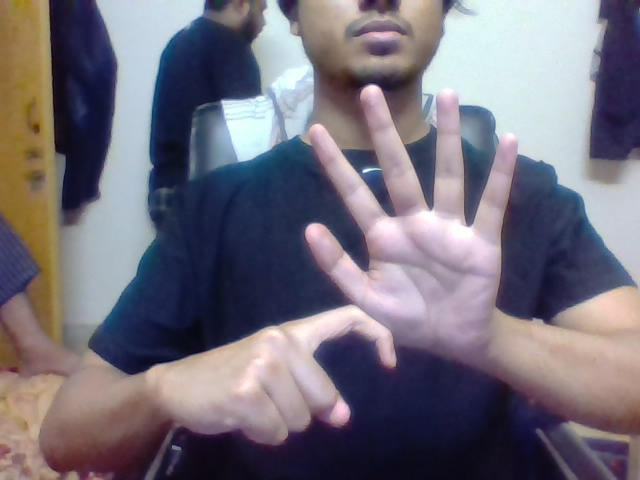R: (280, 297, 402, 433)
